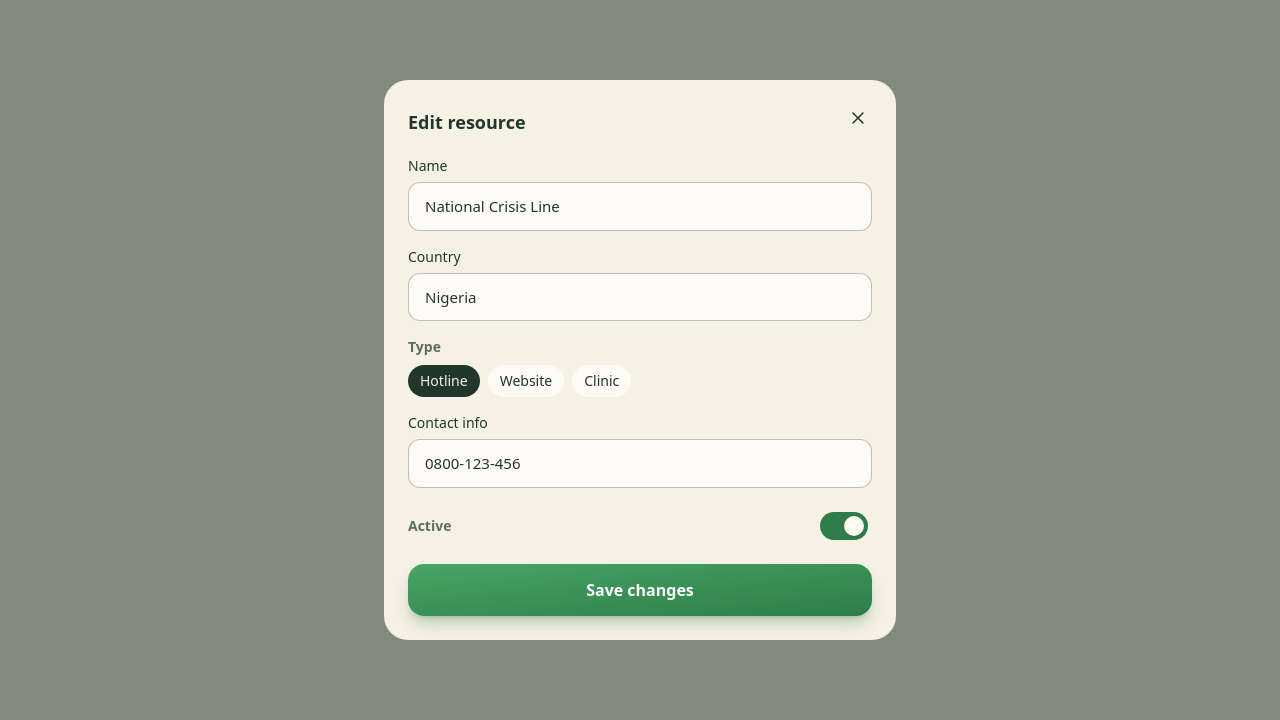
Test: AdminEmergencyResourceSheet › shows an error message when updating fails
The image size is (1280, 720).
Click the button "Save changes" at (640, 590), box [408,564,872,616]
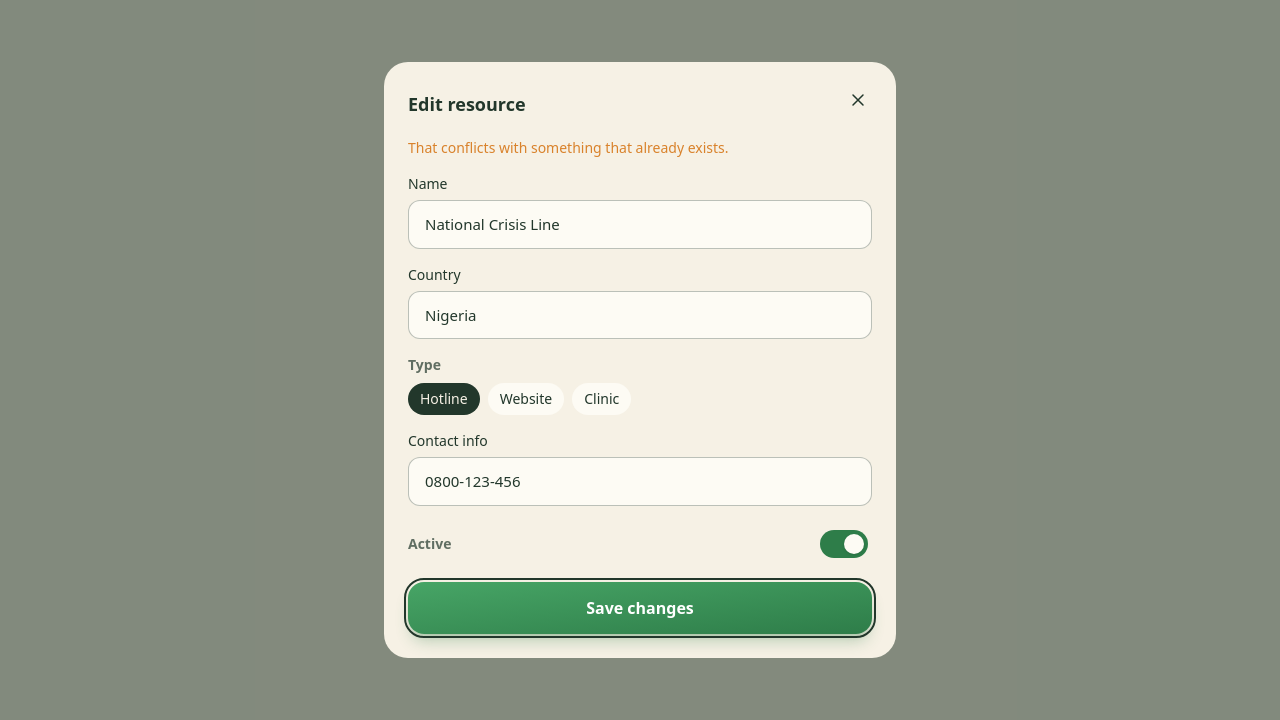
Expected: the message reads "That conflicts with something that already exists.", [408,138,728,157]
